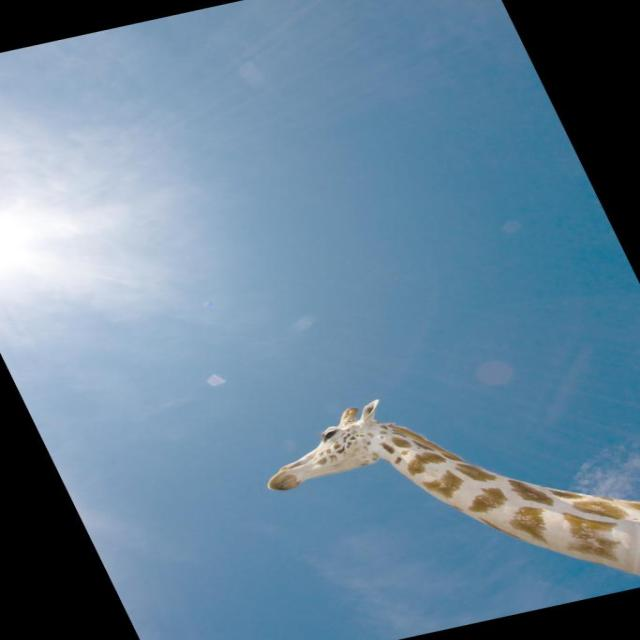Giraffe: (248, 392, 640, 600)
